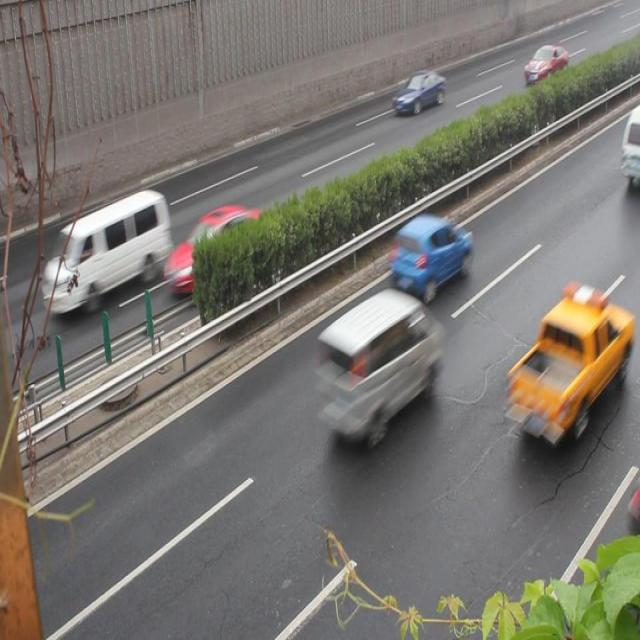bus: (503, 286, 624, 446)
car: (163, 204, 266, 300), (388, 212, 472, 294), (392, 70, 444, 114)
truck: (318, 289, 438, 441), (44, 184, 170, 311)
